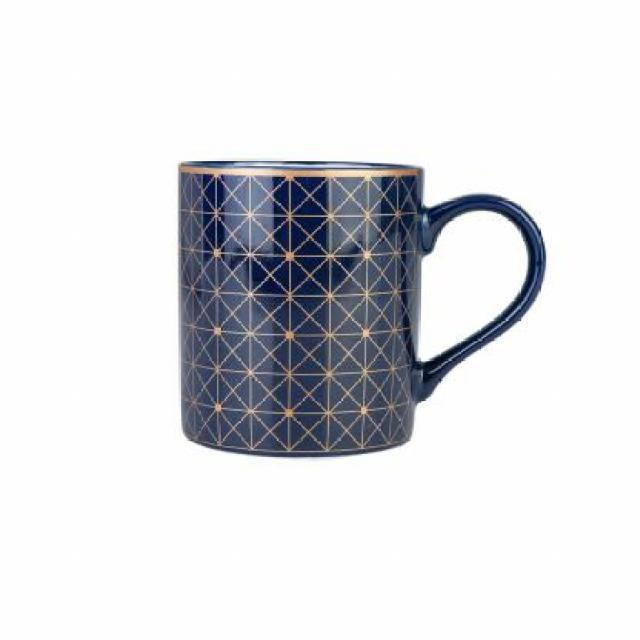taza: (178, 156, 548, 458)
